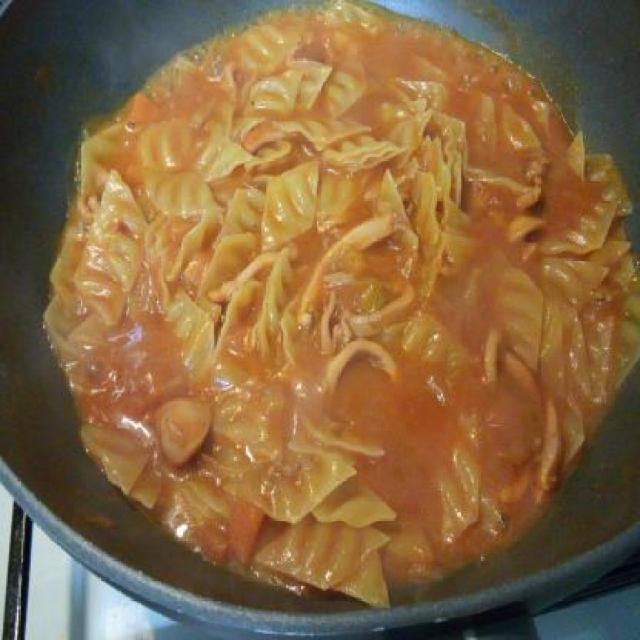Pasta al ragu: (87, 31, 602, 577)
